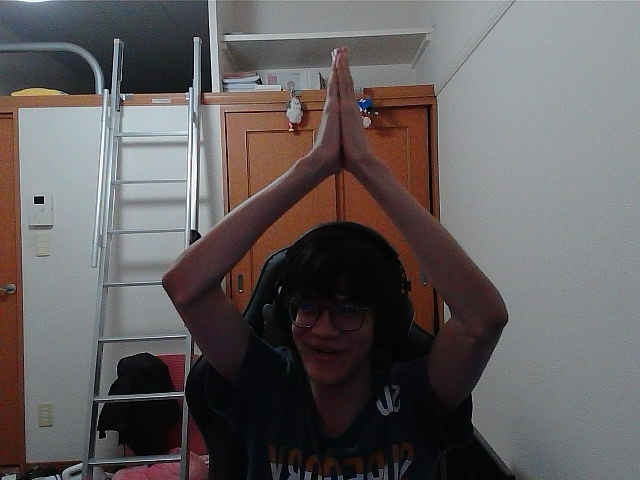pray: (336, 69, 342, 151)
